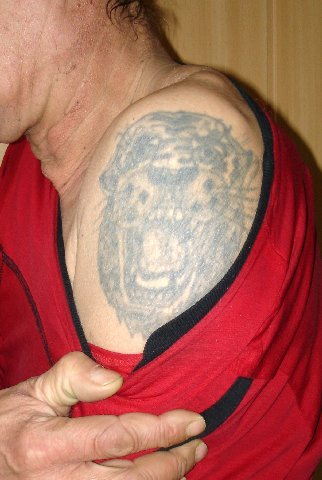tatu5_tigr: (97, 109, 260, 326)
